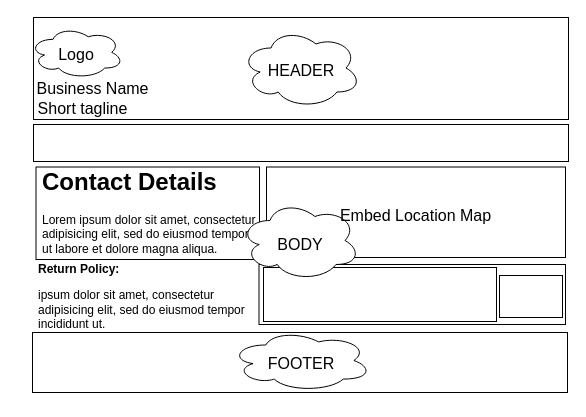
Image size: 586x417. Some labels were removed from this diagram. The shapes that lost their labels are listed below. From the top down, each one's centre as x and y in pixels, then its label:
At pixel 300 143: "Navs".
At pixel 379 294: "Message Box".
At pixel 530 296: "Send Box".
